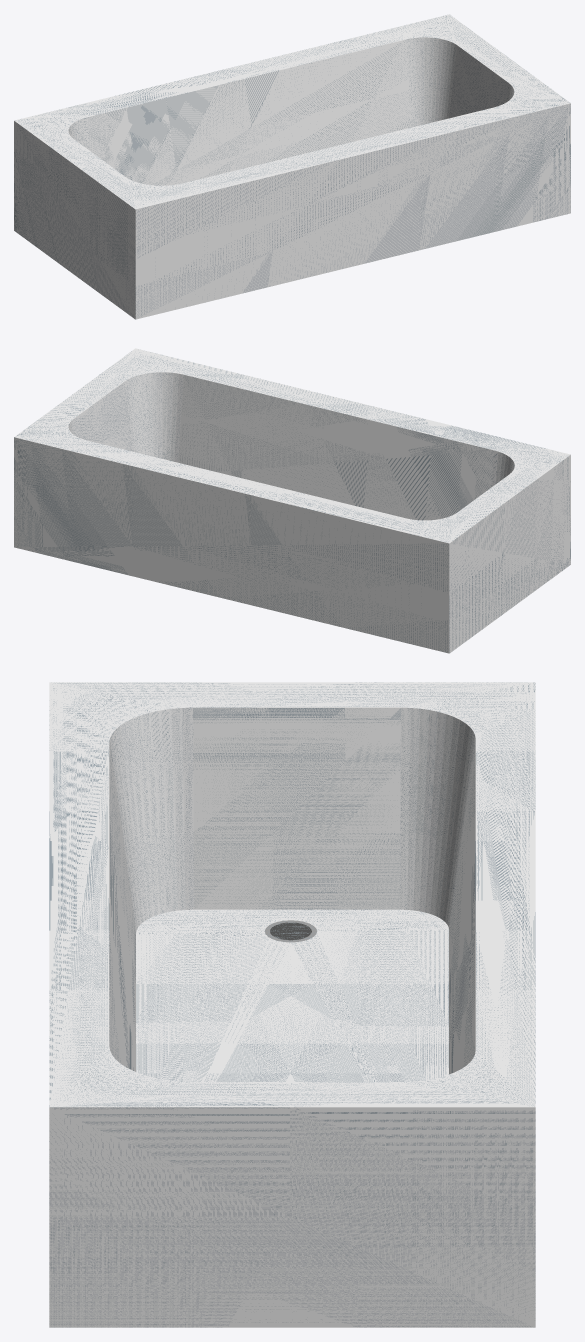
Rendered from Bath.dae.
3 renders of one model, top to bottom at view 1: azimuth 30°, elevation 25°; view 2: azimuth 150°, elevation 25°; view 3: azimuth 270°, elevation 25°, orthographic. The views are drawn at different scales.
Visible parts, largest first — view 1: instance_1 (×2); view 2: instance_1 (×2); view 3: instance_1 (×2).
Boxes of the visible parts, <box> form: instance_1 (×2): <box>14,14,570,319</box>; instance_1 (×2): <box>14,348,570,653</box>; instance_1 (×2): <box>49,682,535,1327</box>.
Bounding box in the file's own units: 60 × 29 × 14.5.
